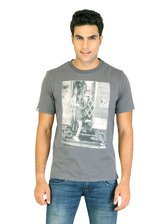clothoes: (35, 57, 134, 184)
